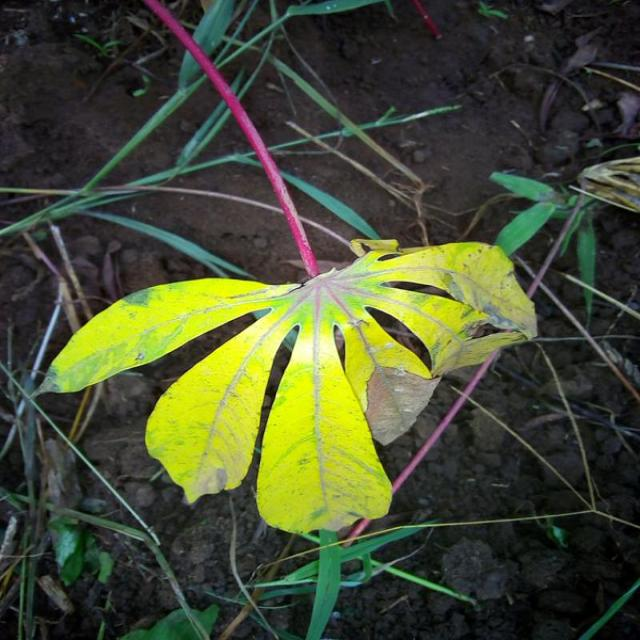cassava leaf: (34, 234, 538, 536)
